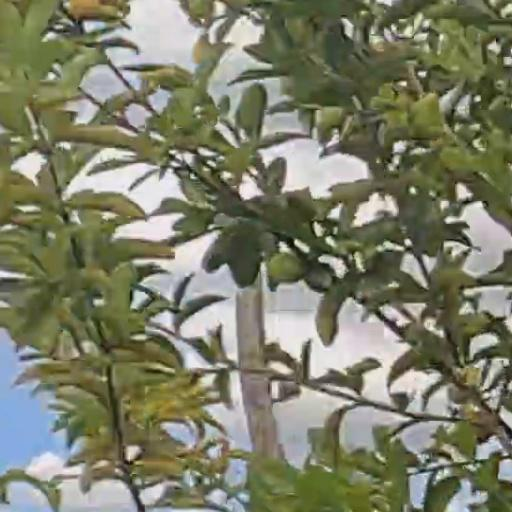acerola: (267, 255, 303, 281)
